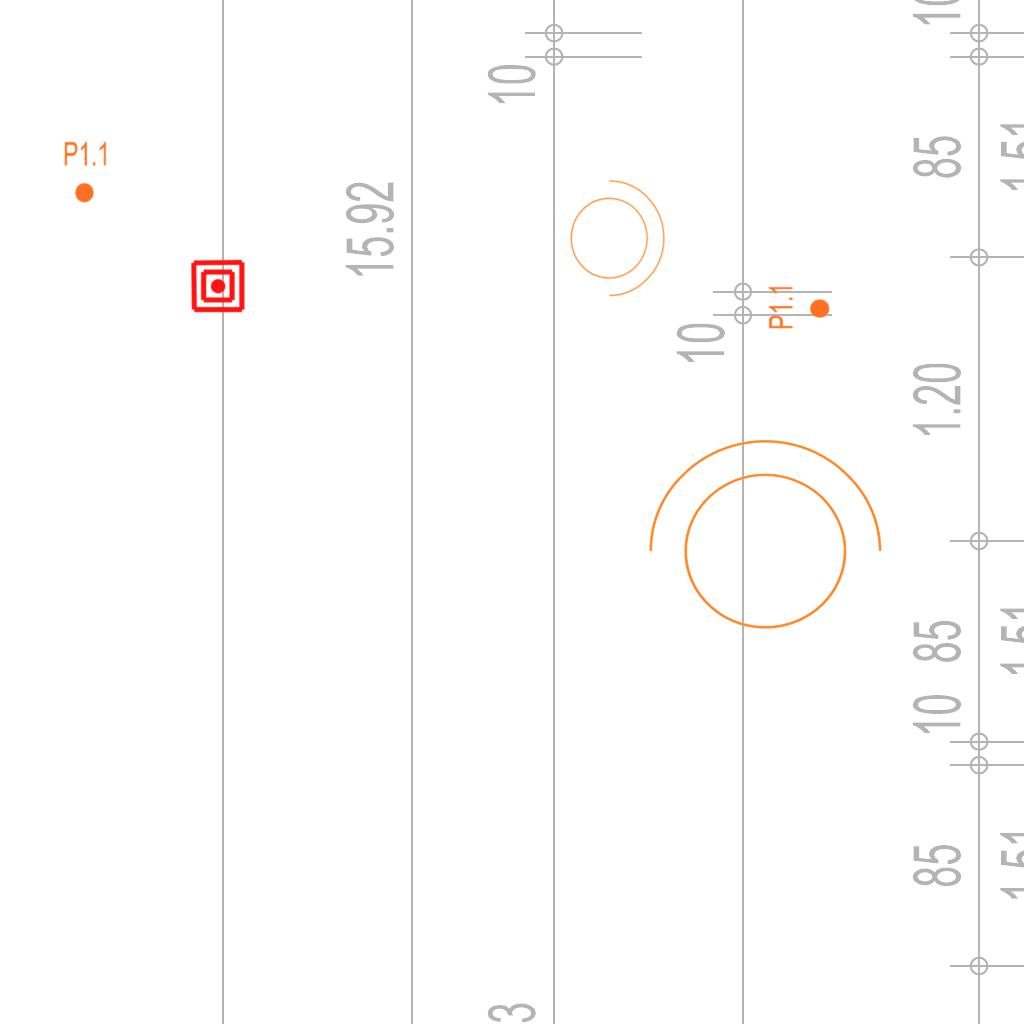Downlight_LED_Einbauleuchten_Flur: (767, 284, 831, 330), (63, 140, 109, 204)
NAM-Nichtautomatischer_Melder: (190, 258, 246, 314)
Scheinwerfer_fuer_Alarmbeleuchtung: (627, 429, 891, 654), (558, 169, 670, 301)
